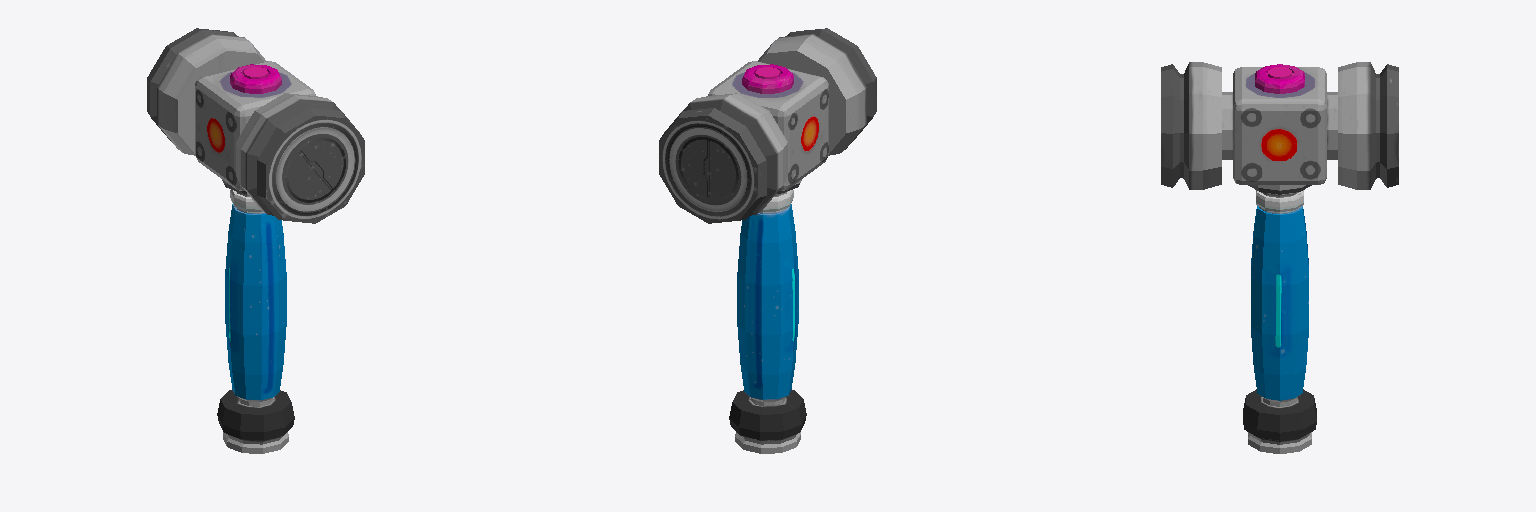
3 renders of one model, left to right at view 1: azimuth 30°, elevation 25°; view 2: azimuth 150°, elevation 25°; view 3: azimuth 270°, elevation 25°, orthographic.
Parts seen in each view (by area): view 1: MAZO; view 2: MAZO; view 3: MAZO.
Part boxes in pixels (bbox=[...]): MAZO: bbox=[147, 28, 364, 453]; MAZO: bbox=[659, 28, 876, 453]; MAZO: bbox=[1161, 62, 1398, 453].
Bounding box in the file's own units: 2.62 × 8.81 × 5.03.
Materials: 1 (1 with a texture image).